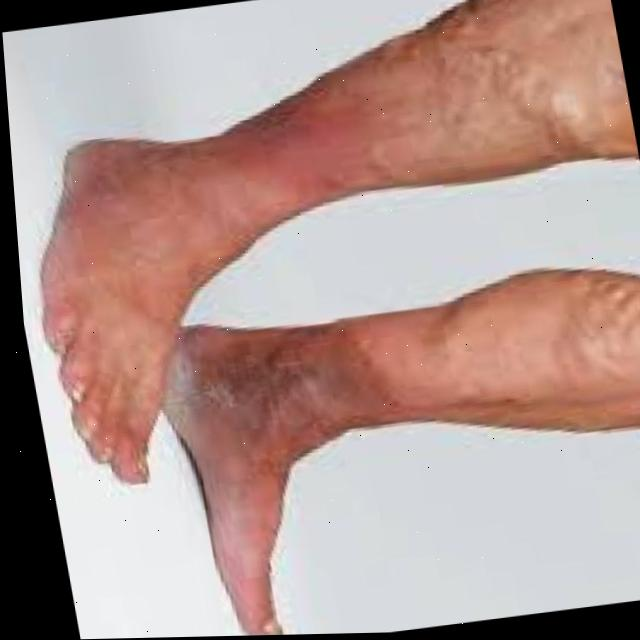Eczema: (210, 45, 396, 200), (235, 332, 359, 448)
